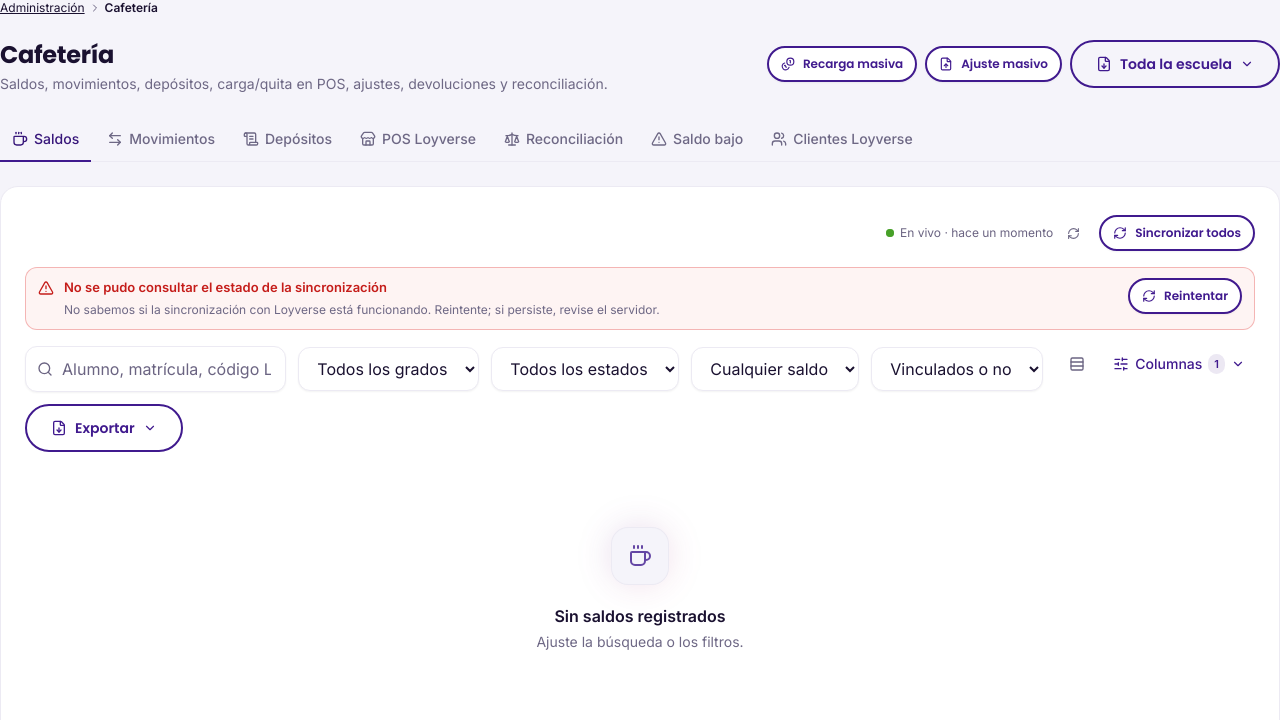
Test case: AdminCafeteria Depósitos: Banorte operations › marks simulated approvals as not to be loaded and labels the gateway
Click the tab "Depósitos" at (288, 140), box [231,118,344,162]
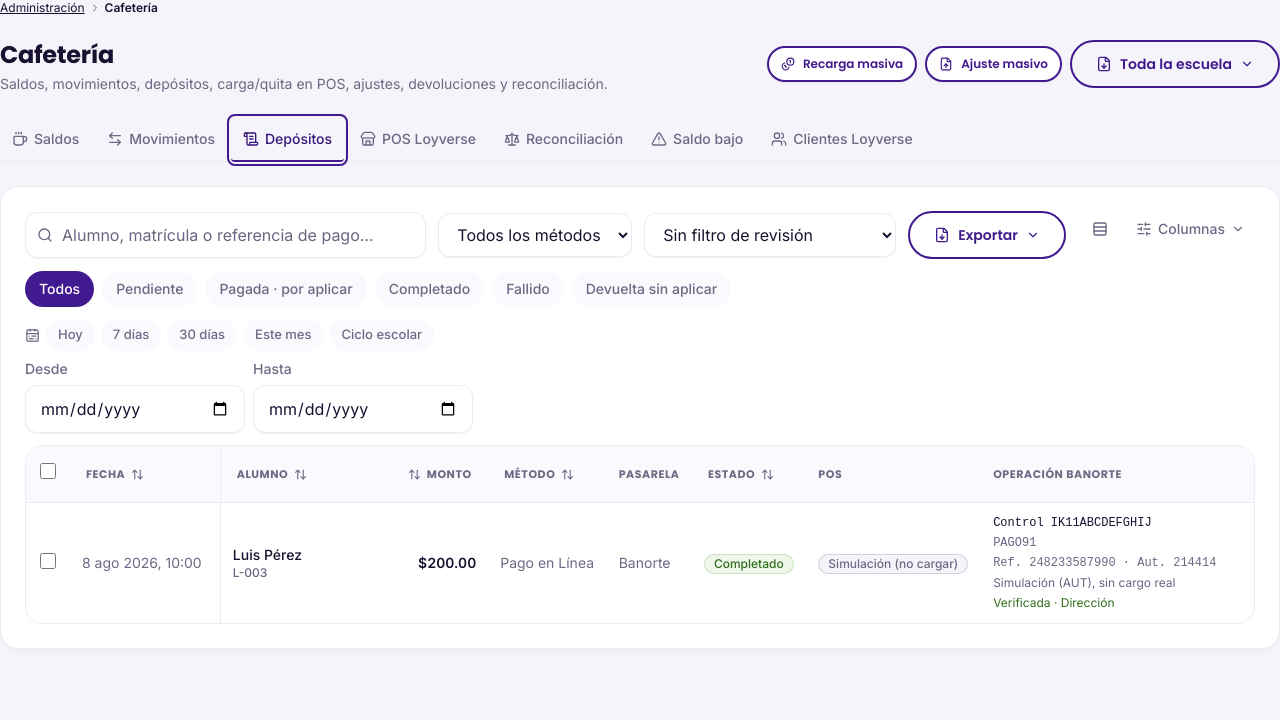
Expected: the text "Simulación (no cargar)" is shown, [818,554,968,574]
Expected: the text "Banorte" is shown, [607,502,692,623]
